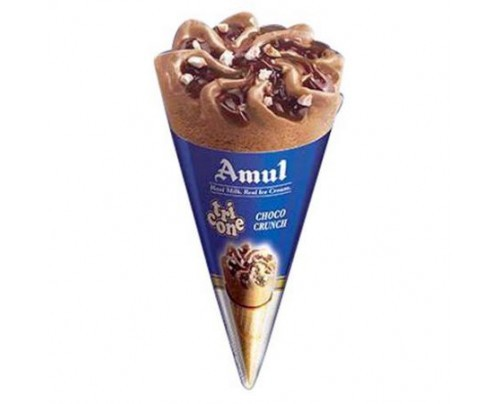Amul: (210, 156, 289, 185)
